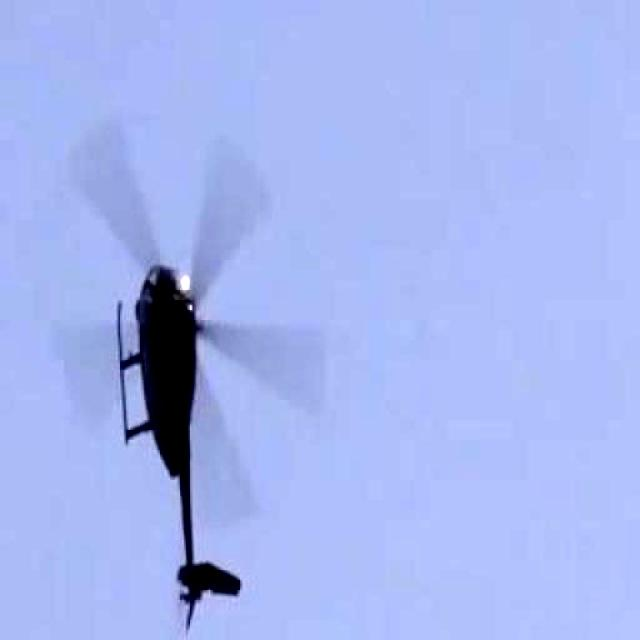drone: (0, 78, 368, 640)
